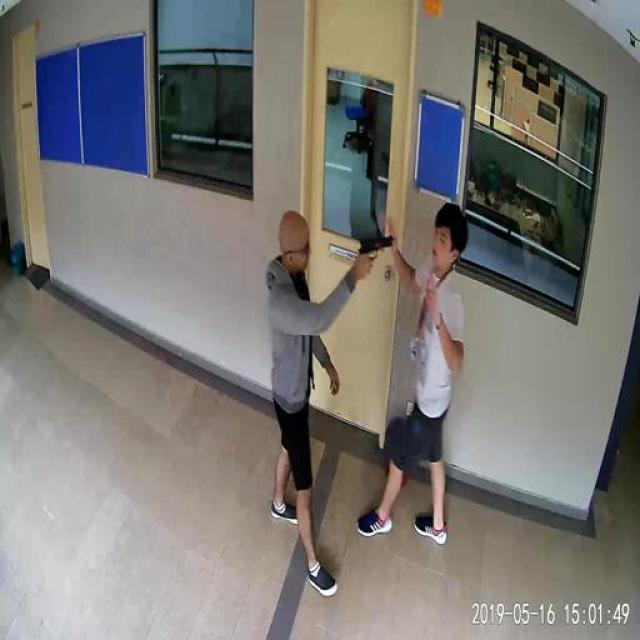Gun: (355, 224, 402, 272)
